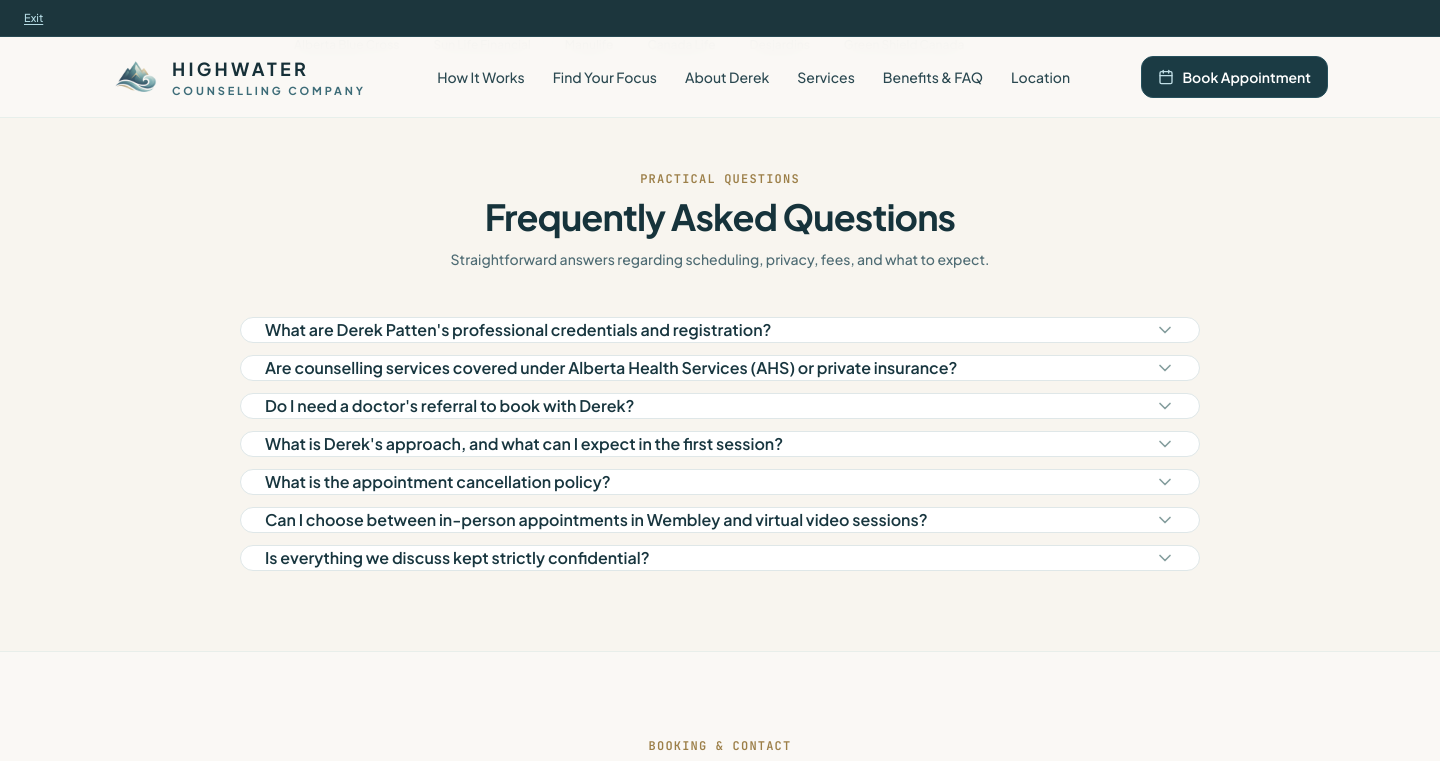
HighwaterDraft Component › allows expanding and collapsing the Canadian counselling FAQ section
(page scrolled)
Expected: the text "Do I need a doctor's referral to book with Derek?" is shown, [265,394,634,418]
Click to open
Click the button "Do I need a doctor's referral to book with Derek?": (450, 405) [241,394,1199,418]
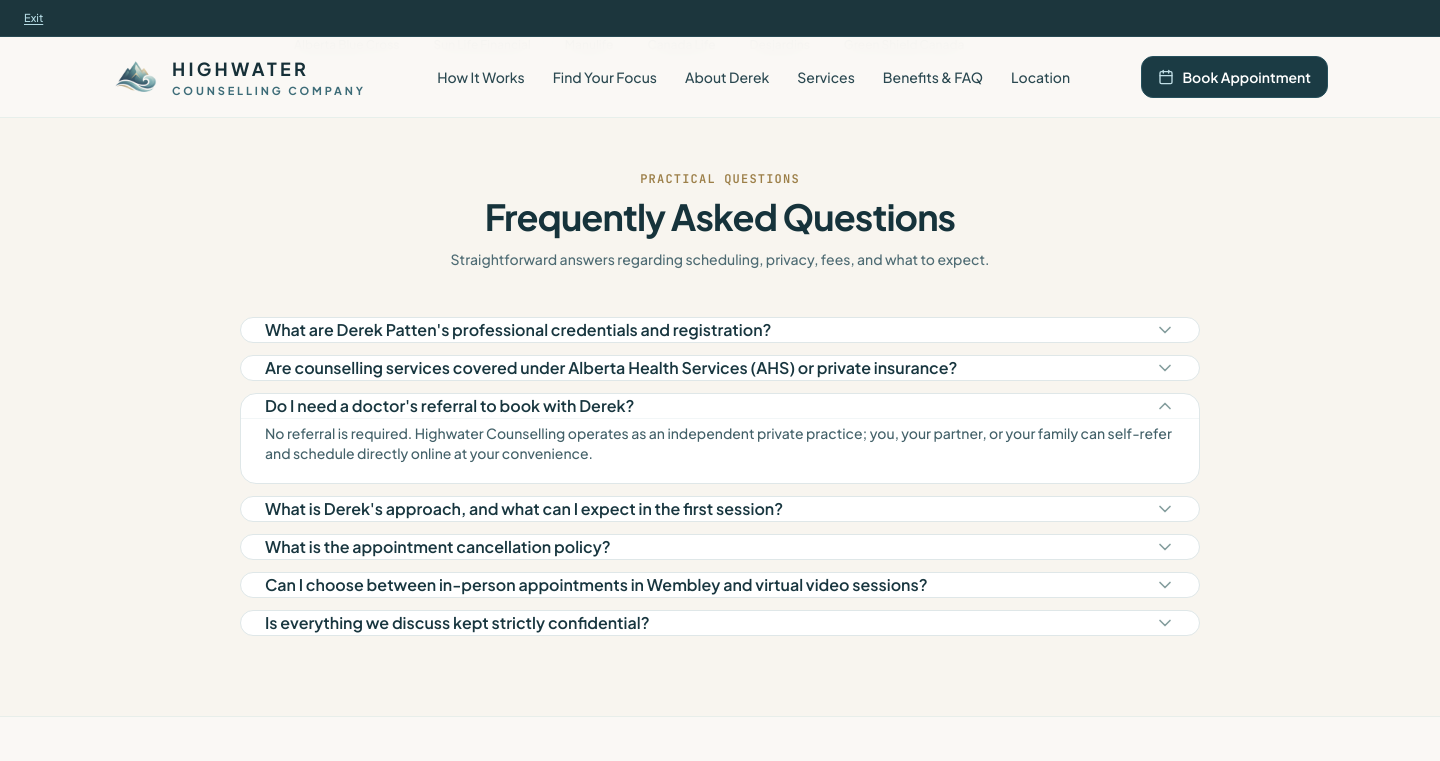
Now the text "No referral is required" is shown, box [265,424,1172,462]
